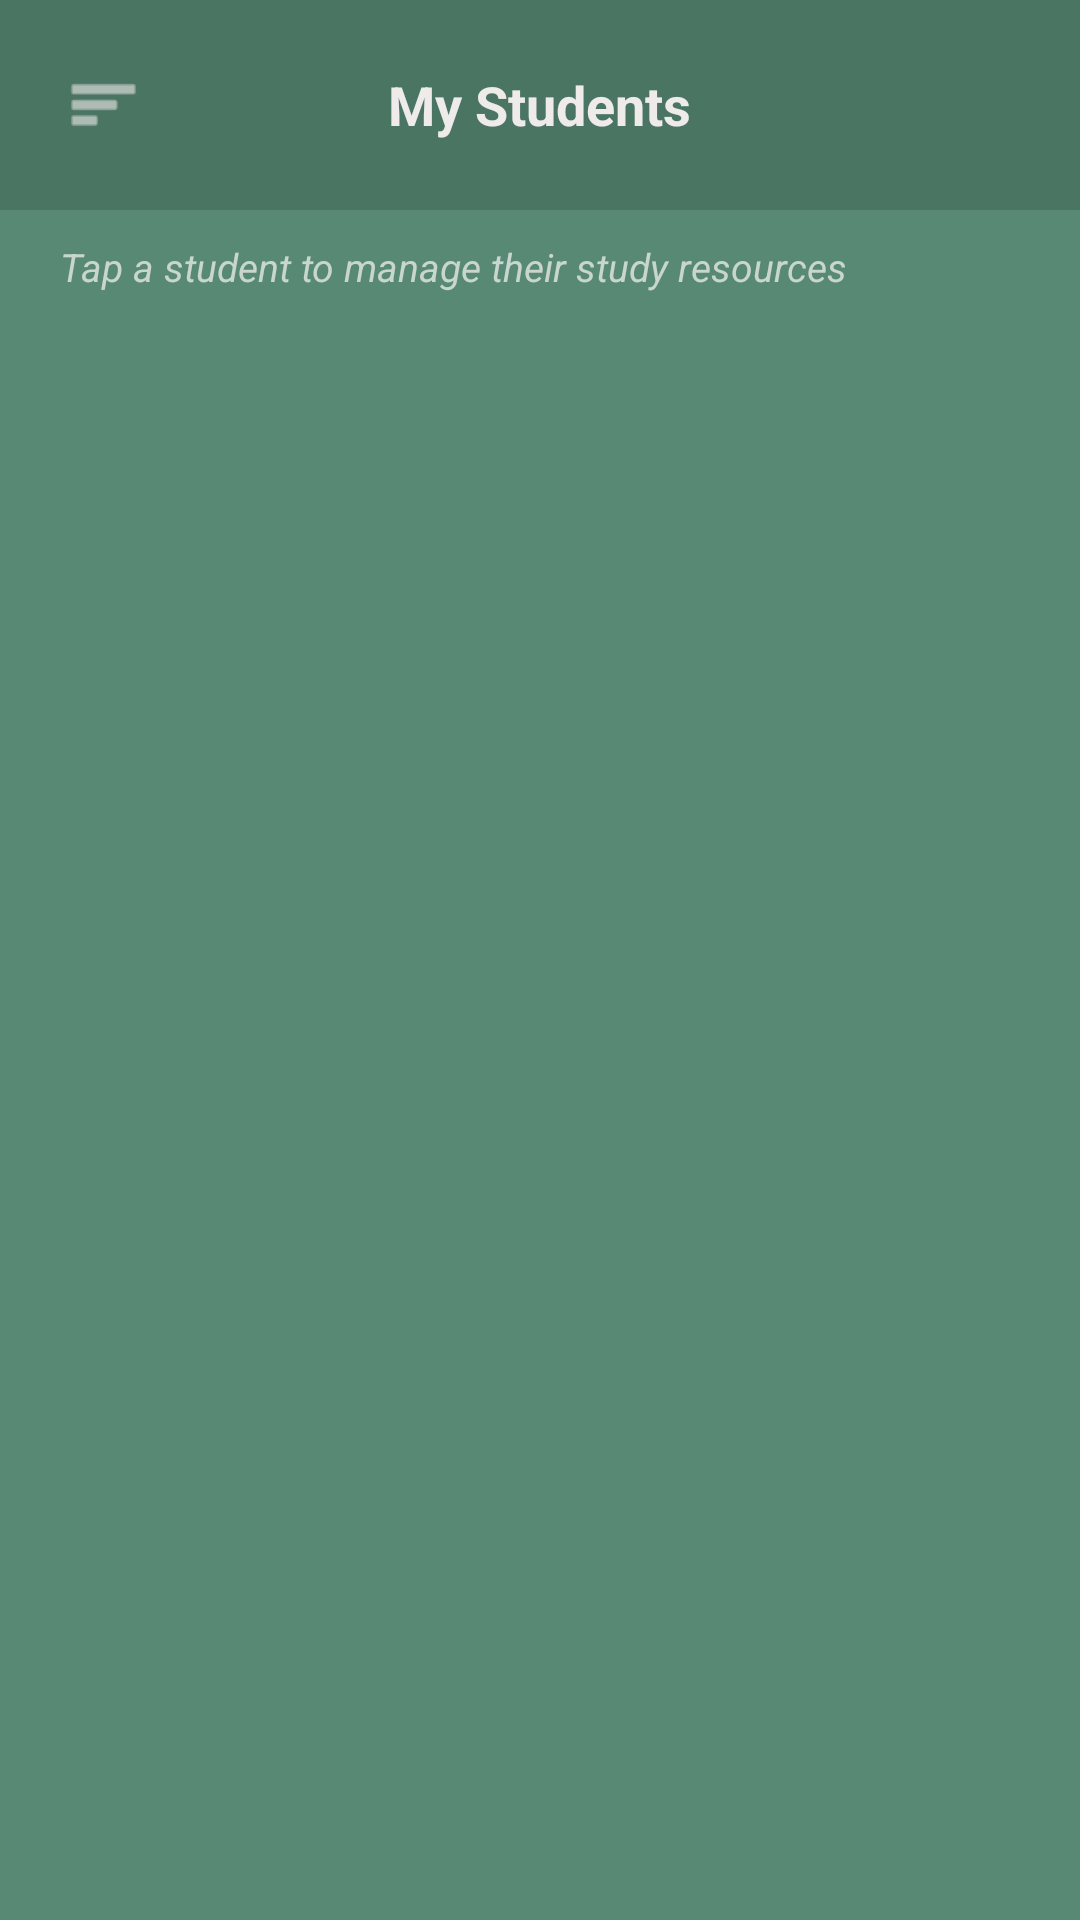

Where to tap for icons on this 1080x1920 app screen, as (x,y):
Menu: (103,105)
